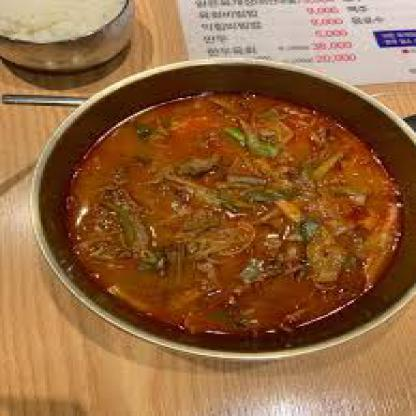rice ball: (0, 0, 137, 50)
spicy yuke jang: (60, 90, 403, 347)
